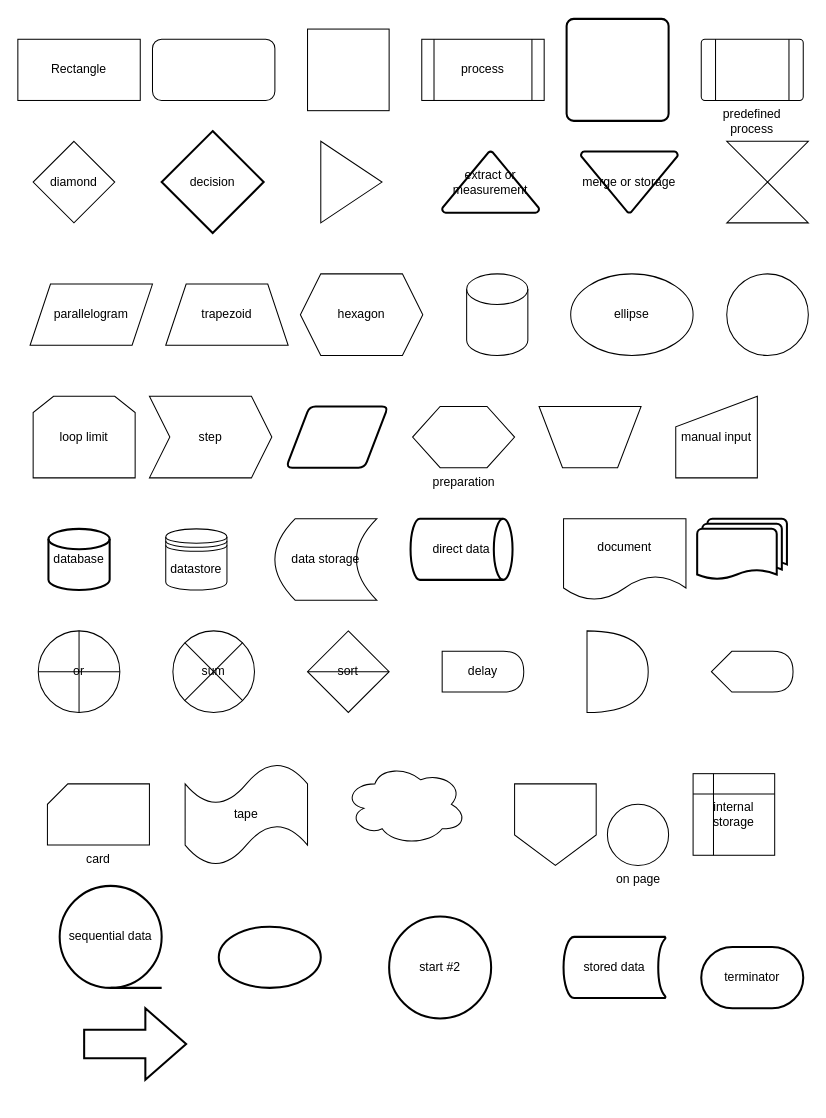
Image size: 826x1118. Some labels were removed from this diagram. The box of each missing label's shape, as (x1, y1, x2, y2) in pixels:
and: (586, 630, 648, 712)
circle: (726, 273, 808, 355)
cloud: (343, 762, 467, 845)
collate: (726, 140, 808, 223)
cylinder: (466, 273, 528, 355)
data: (285, 405, 389, 468)
display: (710, 650, 793, 692)
manual operation: (538, 405, 641, 468)
multi-document: (696, 517, 787, 580)
off page: (514, 783, 596, 865)
process #2: (565, 17, 669, 121)
Rounded rectangle: (151, 38, 275, 100)
square: (307, 28, 389, 111)
start: (217, 925, 321, 988)
transfer: (83, 1007, 187, 1080)
triangle: (320, 140, 382, 223)
